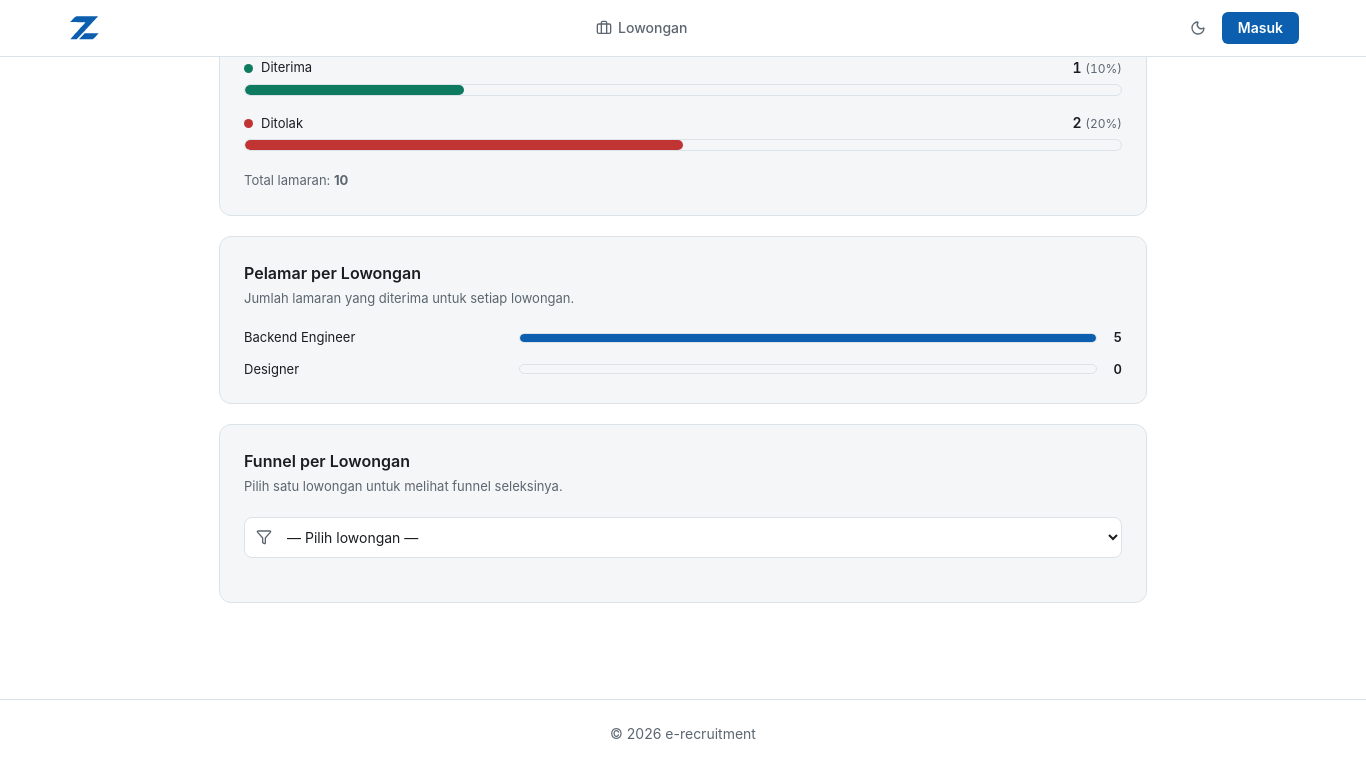
HrReportingPage › loads a per-job funnel when a job is selected (second endpoint)
(page scrolled)
Select "Backend Engineer (5)" in the dropdown with class "job-picker__select": (683, 537) [244, 516, 1122, 558]
(page scrolled)
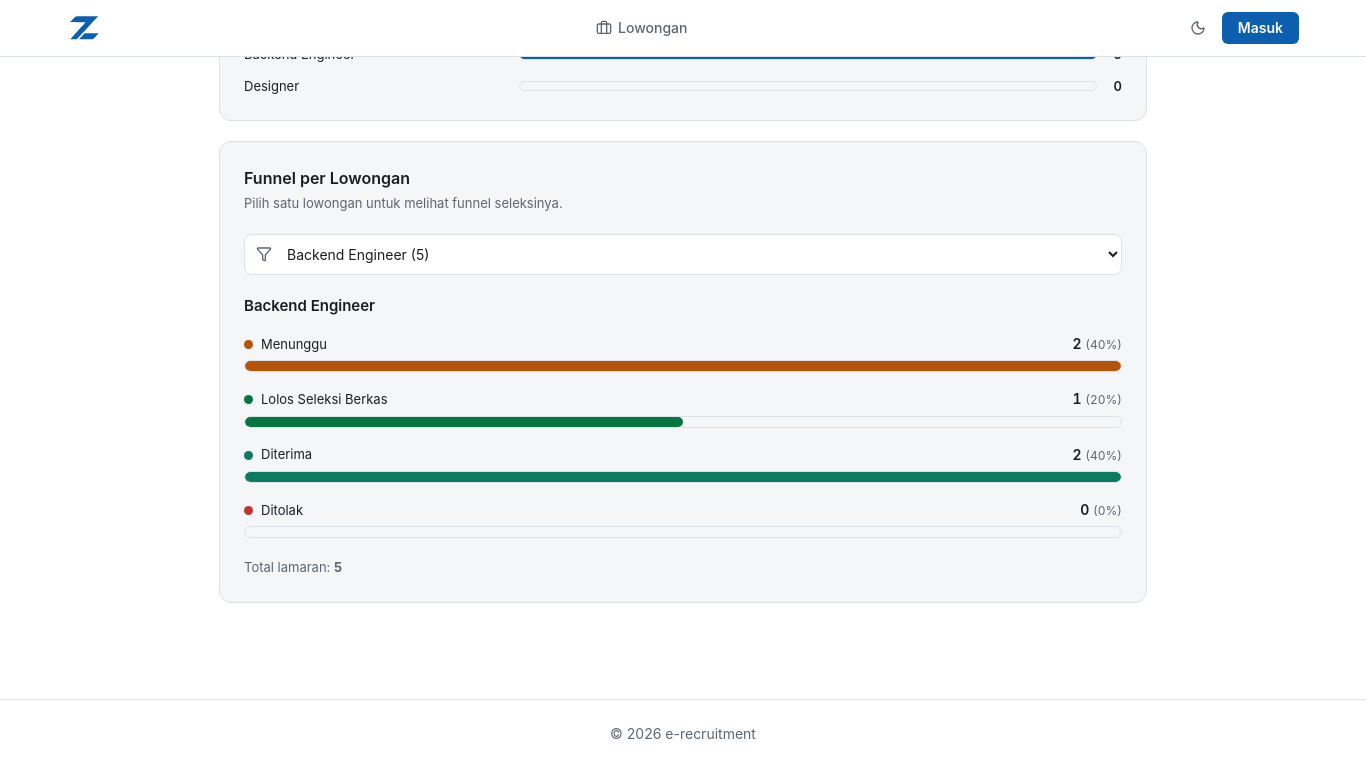
Expected: the element with class "job-funnel" is shown, [244, 294, 1122, 578]
